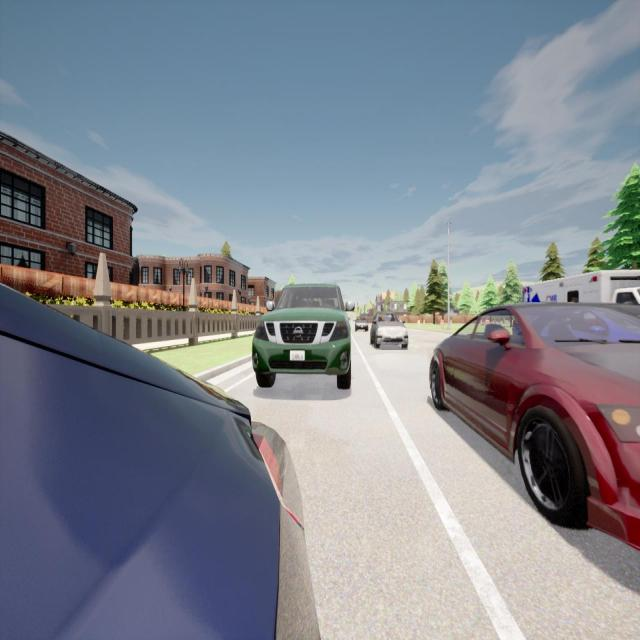Vehicle: (0, 280, 320, 640), (430, 304, 640, 553), (252, 284, 354, 389), (522, 272, 640, 307), (370, 310, 409, 352), (354, 316, 368, 332)
